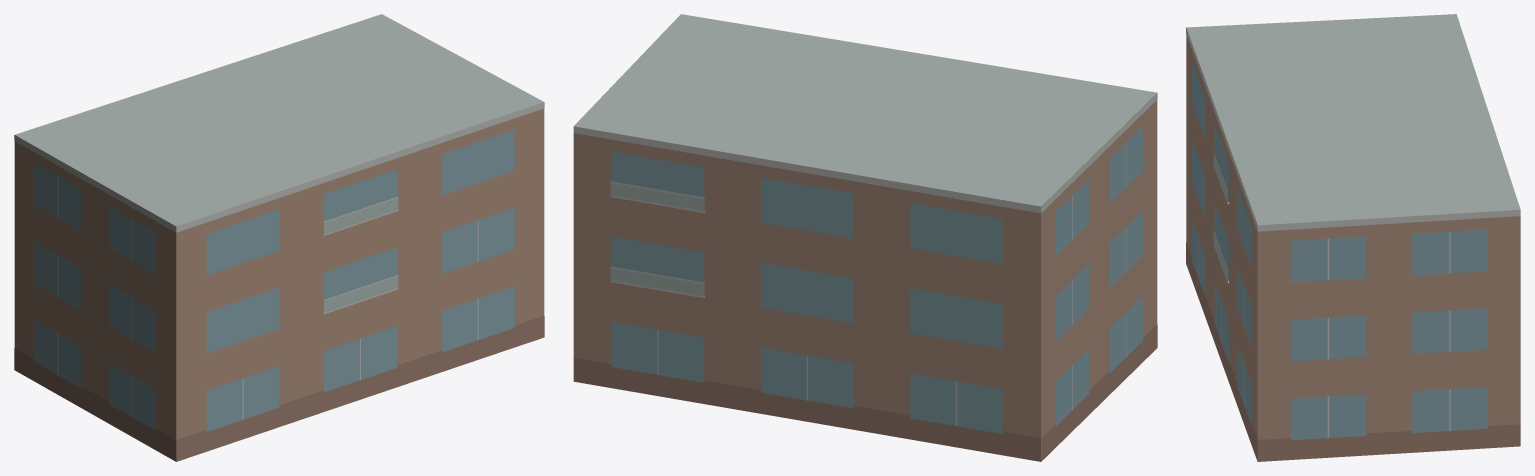
The model's file is survey-upis-32880828.glb.
The picture shows the model from 3 angles, left to right: view 1: azimuth 30°, elevation 25°; view 2: azimuth 150°, elevation 25°; view 3: azimuth 270°, elevation 25°; orthographic projection. The views are drawn at different scales.
Parts seen in each view (by area): view 1: survey-upis-32880828.tmp; view 2: survey-upis-32880828.tmp; view 3: survey-upis-32880828.tmp.
Part boxes in pixels (<box>): survey-upis-32880828.tmp: <box>14,14,544,461</box>; survey-upis-32880828.tmp: <box>573,14,1157,461</box>; survey-upis-32880828.tmp: <box>1186,14,1520,461</box>.
Bounding box in the file's own units: 17.55 × 9.15 × 11.74.
